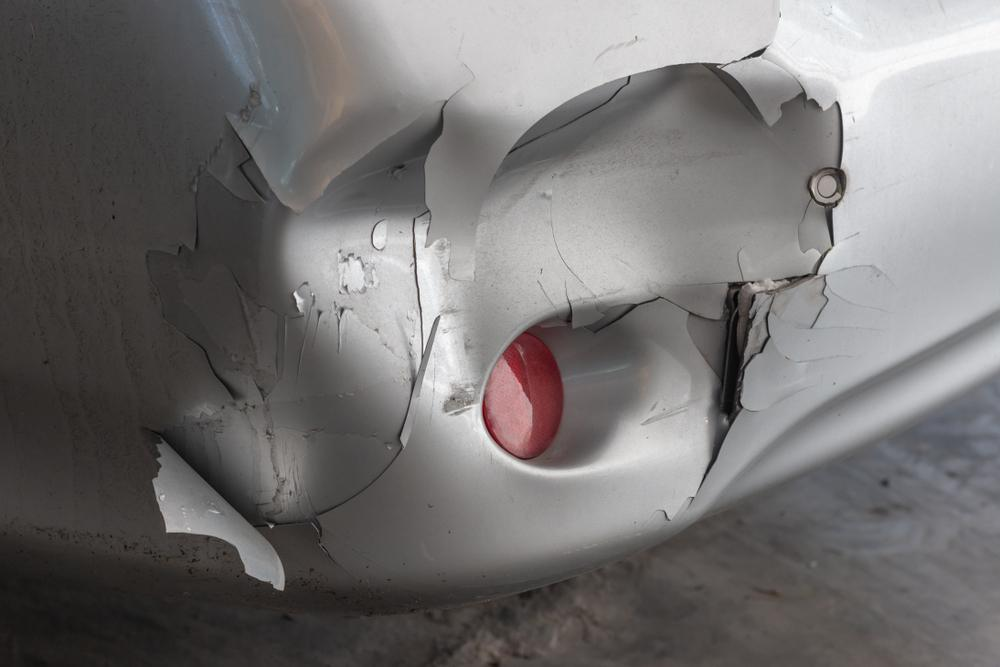crack: (700, 290, 755, 494)
dent: (281, 55, 839, 400)
